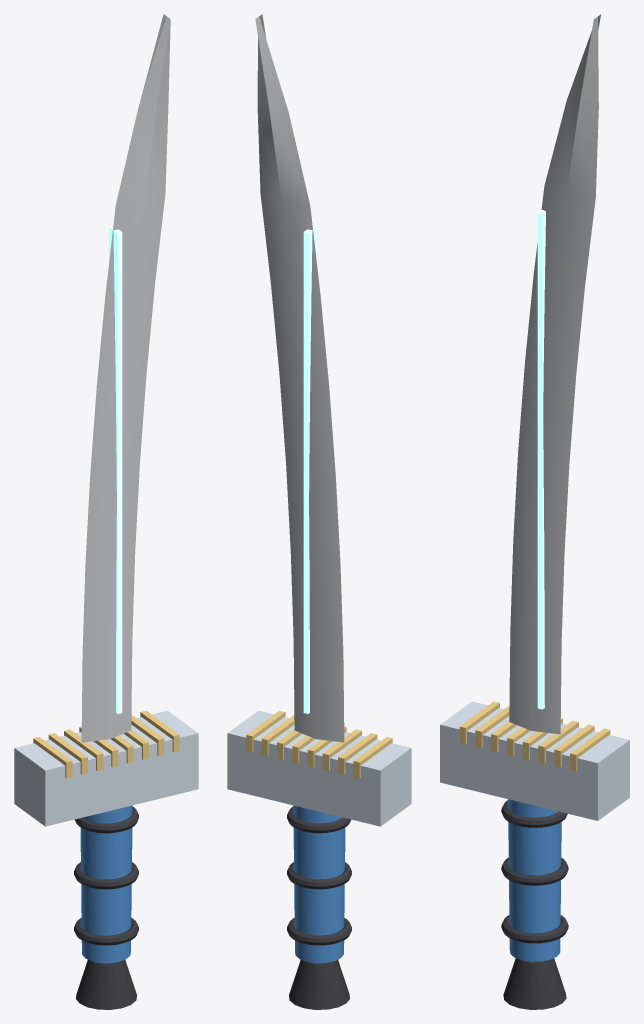
File: sable_ethernet.glb
3 renders of one model, left to right at view 1: azimuth 30°, elevation 25°; view 2: azimuth 150°, elevation 25°; view 3: azimuth 330°, elevation 25°, orthographic. The views are drawn at different scales.
Visible parts, largest first — view 1: sable_ethernet; view 2: sable_ethernet; view 3: sable_ethernet.
Part boxes in pixels (box(x1,y1,x2,y2)): sable_ethernet: box(14, 14, 198, 1009); sable_ethernet: box(227, 14, 411, 1009); sable_ethernet: box(440, 14, 629, 1009).
Size of the model in its own units: 0.2 by 1.2 by 0.075.
